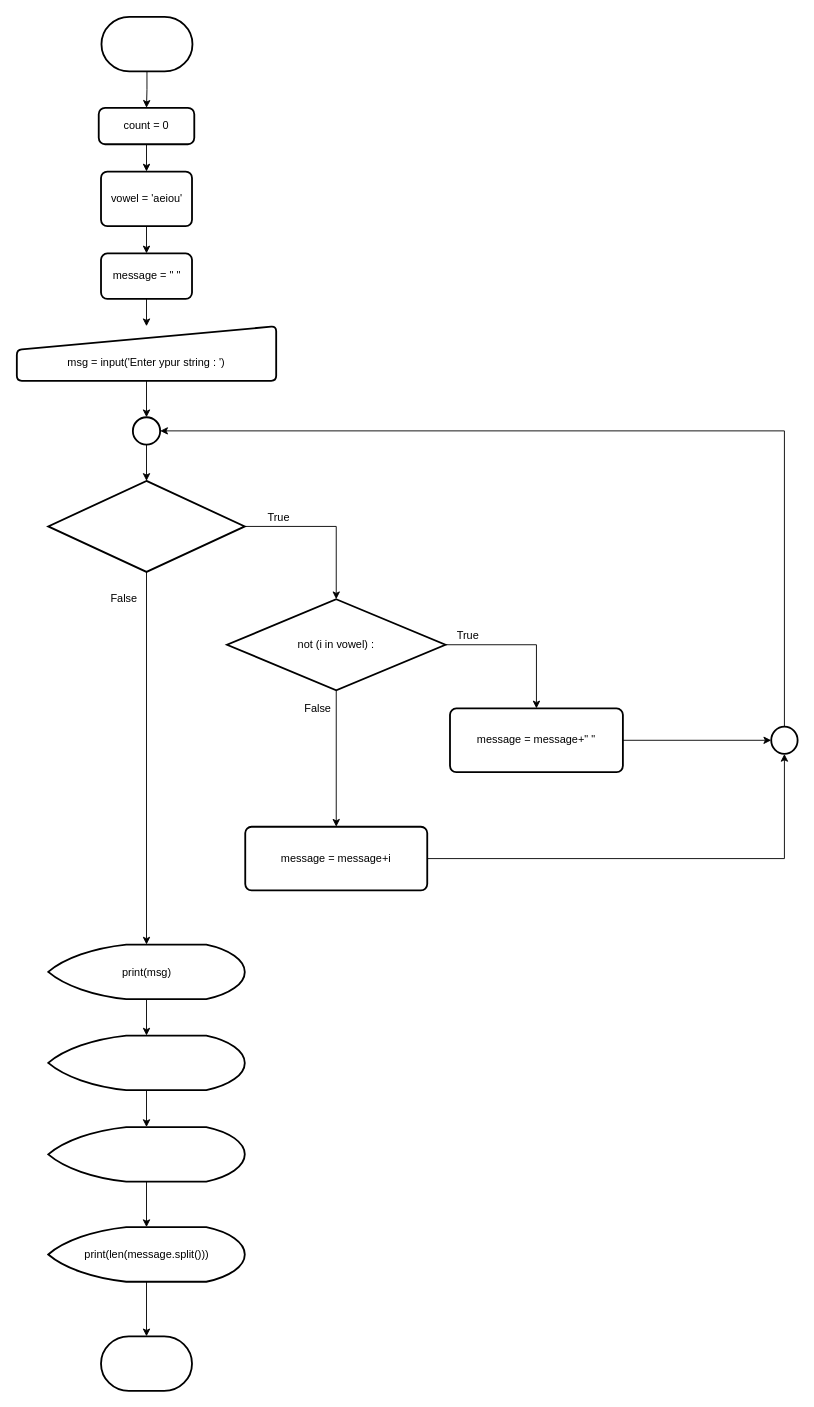
Image size: 814x1407. Some labels were removed from this diagram. The centre of each missing label's shape, as x and y in pixels:
"Begin" goes at point 146,43.
"End" goes at point 146,1363.
"for i in msg :" goes at point 146,526.
"print(message)" goes at point 146,1062.
"print(message.split())" goes at point 146,1154.
